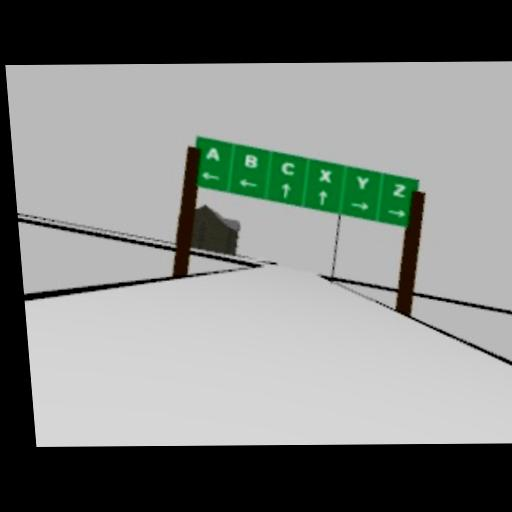A: (204, 147, 222, 162)
B: (243, 153, 260, 169)
C: (279, 159, 297, 177)
Left: (200, 170, 221, 183), (238, 177, 259, 189)
Right: (385, 207, 406, 220), (349, 200, 369, 213)
Straight: (280, 181, 293, 201), (317, 188, 330, 208)
X: (318, 167, 333, 185)
Y: (355, 175, 371, 190)
Z: (392, 181, 407, 199)
